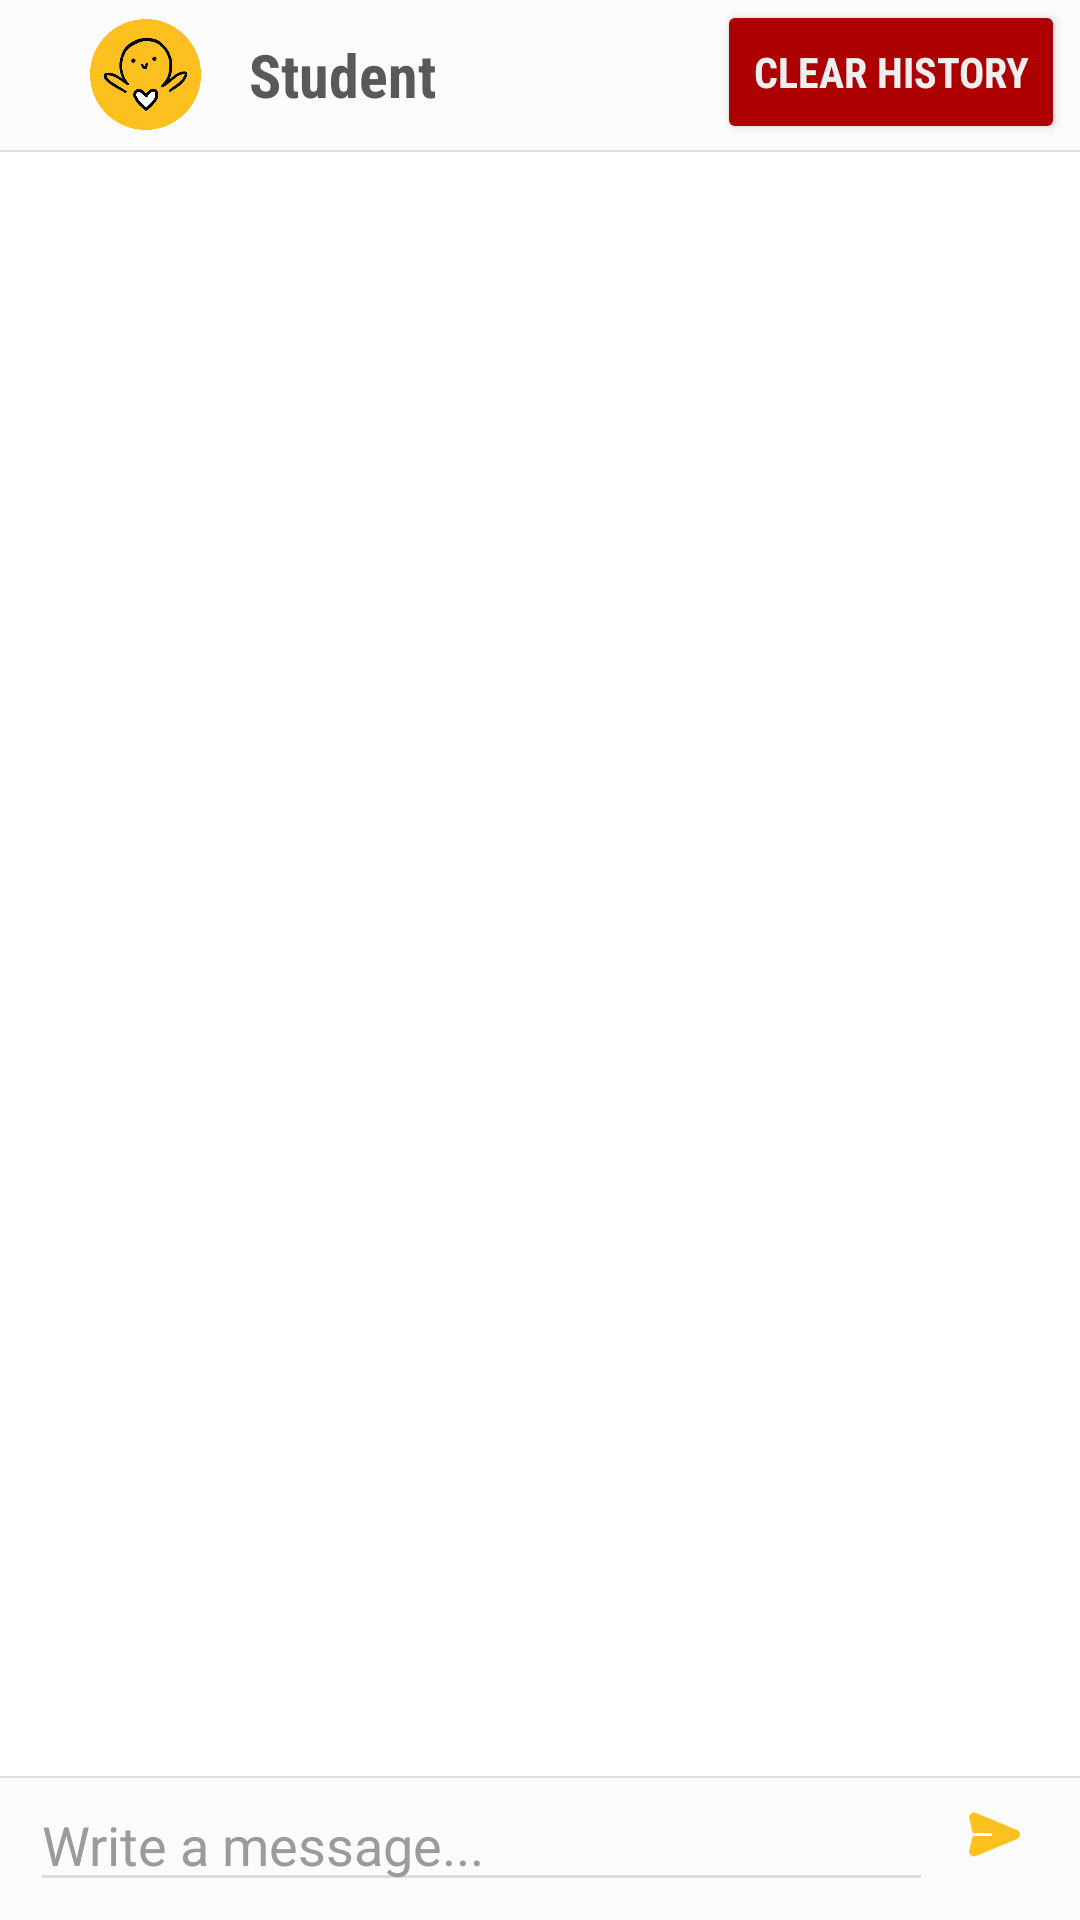

Icons on this 1080 × 1920 Android screen, each with the point to tap as [x,y]:
send: [994,1834]
